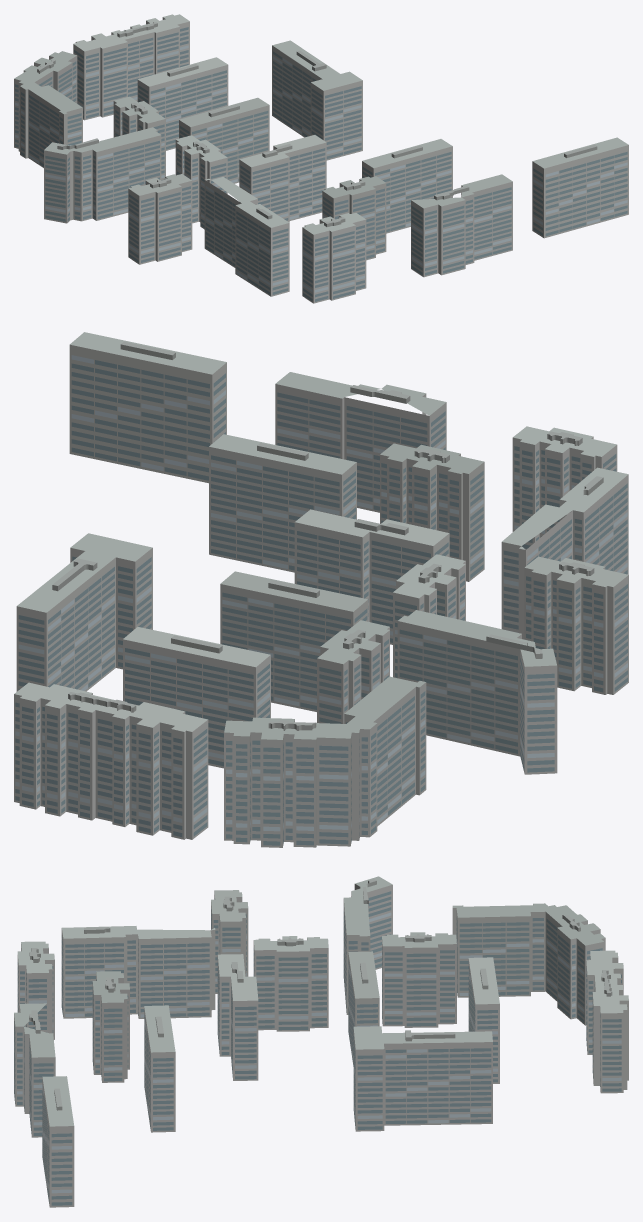
The model's file is apt-a13380703.glb.
3 views of the same model, one above another, from view 1: azimuth 30°, elevation 25°; view 2: azimuth 150°, elevation 25°; view 3: azimuth 270°, elevation 25° (orthographic). The views are drawn at different scales.
Parts seen in each view (by area): view 1: apt-a13380703; view 2: apt-a13380703; view 3: apt-a13380703.
Boxes of the visible parts, x1,y1,x2,y2 form: apt-a13380703: (14, 14, 628, 303); apt-a13380703: (14, 332, 628, 847); apt-a13380703: (14, 876, 628, 1207).
Bounding box in the file's own units: 264 × 42 × 273.
